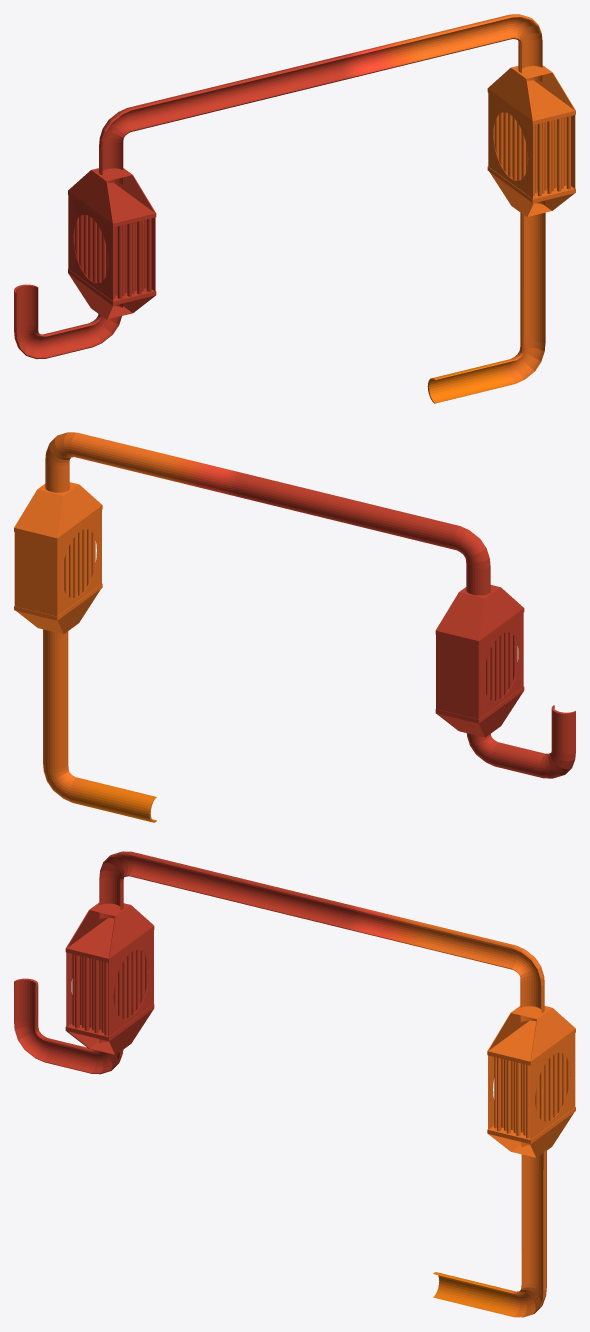
File: NewTrube 1.fbx
3 renders of one model, top to bottom at view 1: azimuth 30°, elevation 25°; view 2: azimuth 150°, elevation 25°; view 3: azimuth 330°, elevation 25°, orthographic.
Visible parts, largest first — view 1: Цилиндр.034, Цилиндр.018, Цилиндр.001; view 2: Цилиндр.034, Цилиндр.018, Цилиндр.001; view 3: Цилиндр.034, Цилиндр.018, Цилиндр.001.
Part boxes in pixels (x1=…): Цилиндр.034: x1=14, y1=53, x2=354, y2=359; Цилиндр.018: x1=350, y1=14, x2=575, y2=383; Цилиндр.001: x1=427, y1=358, x2=515, y2=403; Цилиндр.034: x1=229, y1=471, x2=575, y2=778; Цилиндр.018: x1=14, y1=432, x2=235, y2=802; Цилиндр.001: x1=69, y1=777, x2=156, y2=822; Цилиндр.034: x1=14, y1=851, x2=358, y2=1074; Цилиндр.018: x1=353, y1=906, x2=575, y2=1317; Цилиндр.001: x1=433, y1=1272, x2=520, y2=1316.
Bounding box in the file's own units: 9962 × 6532 × 1450.
